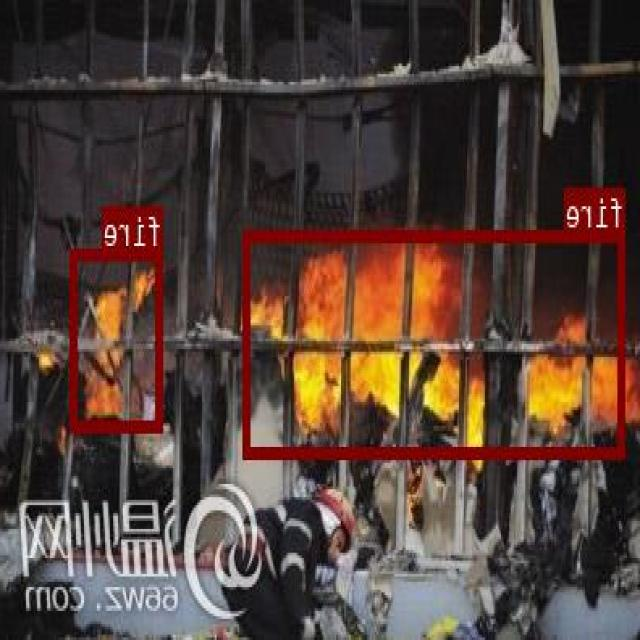fire: (245, 230, 626, 457), (72, 249, 164, 429)
